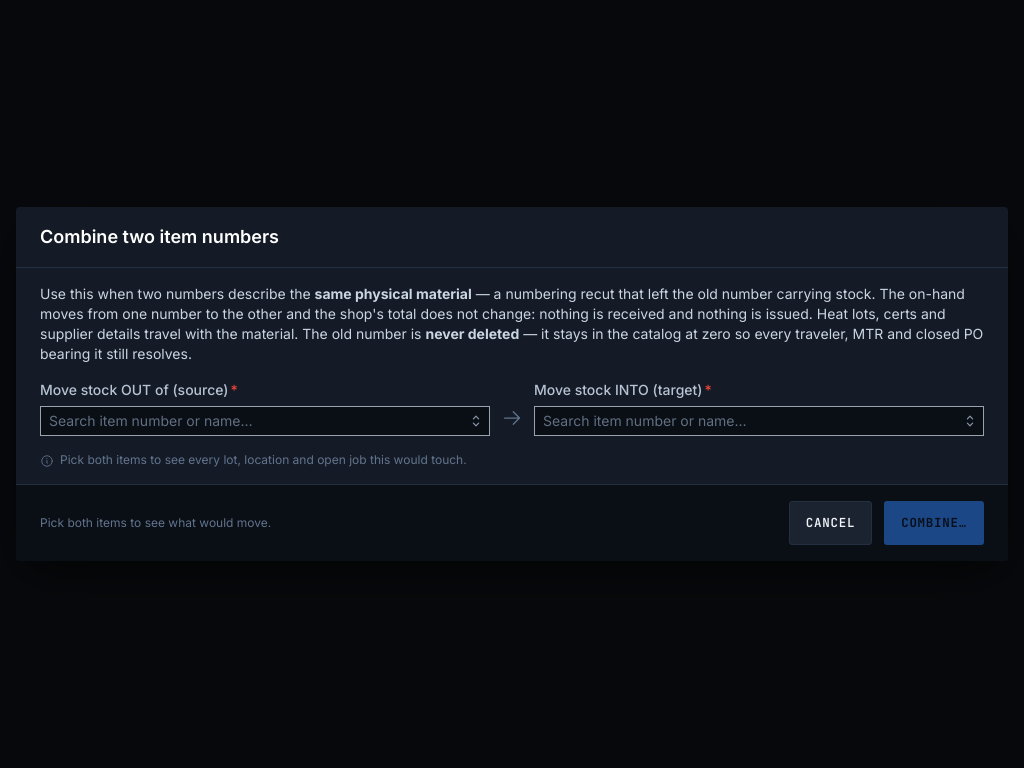
Test: CombineInventoryDialog — what the preview puts on screen › lists the open jobs still tied to the source, with what they still need
Click the dropdown labelled "Move stock OUT of (source)*": (265, 421) [40,406,490,436]
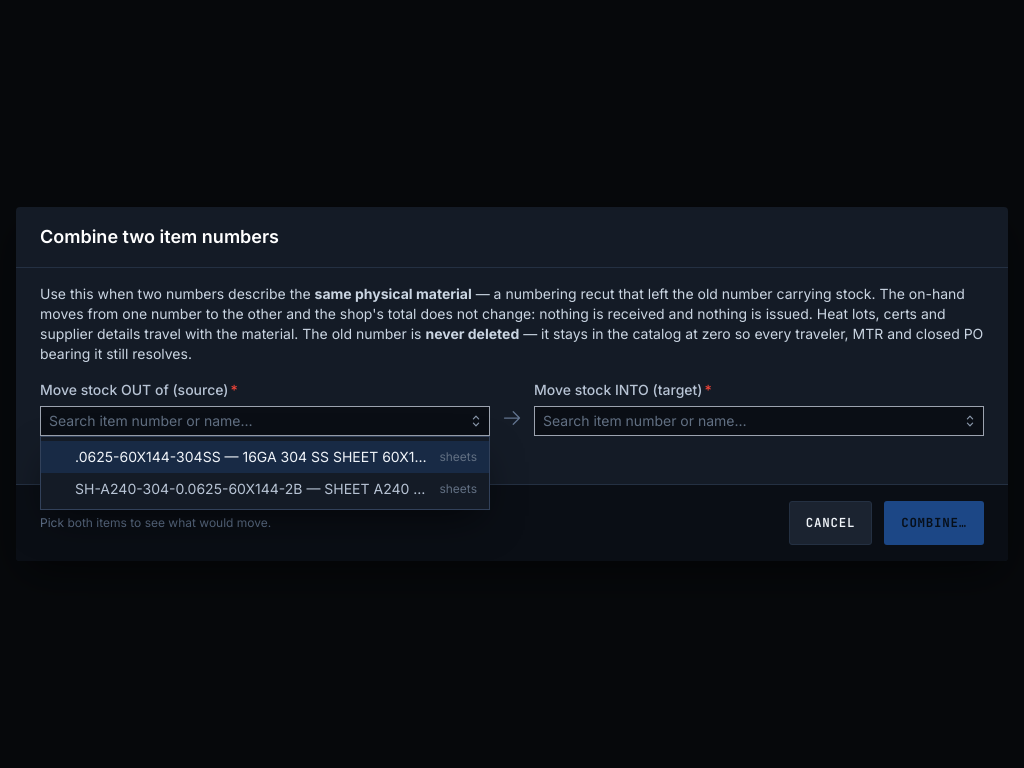
Click the option ".0625-60X144-304SS — 16GA 304 SS SHEET 60X144 sheets": (265, 457) [41,441,489,473]
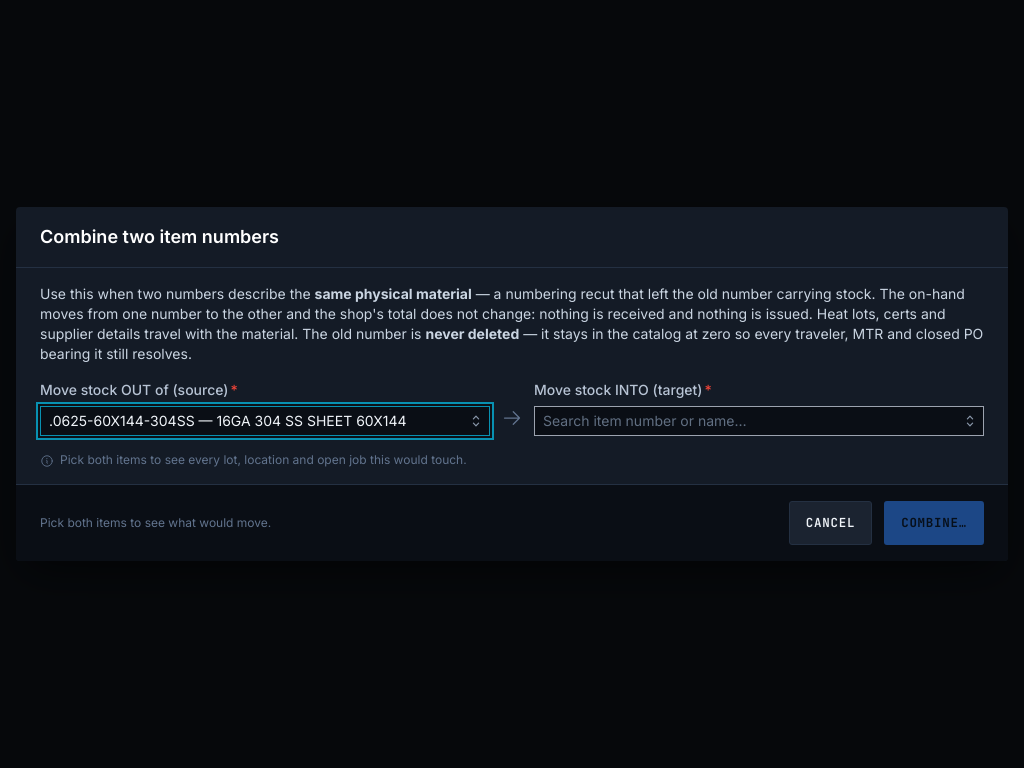
Click the dropdown labelled "Move stock INTO (target)*": (759, 421) [534,406,984,436]
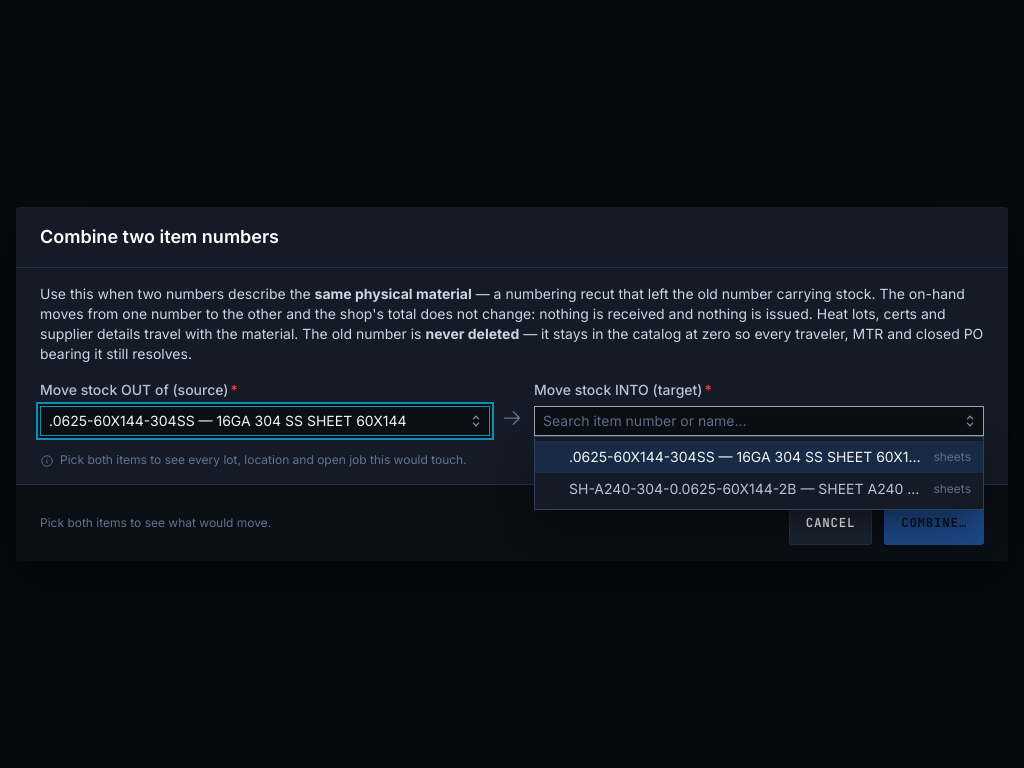
Click the option "SH-A240-304": (759, 489) [535,473,983,505]
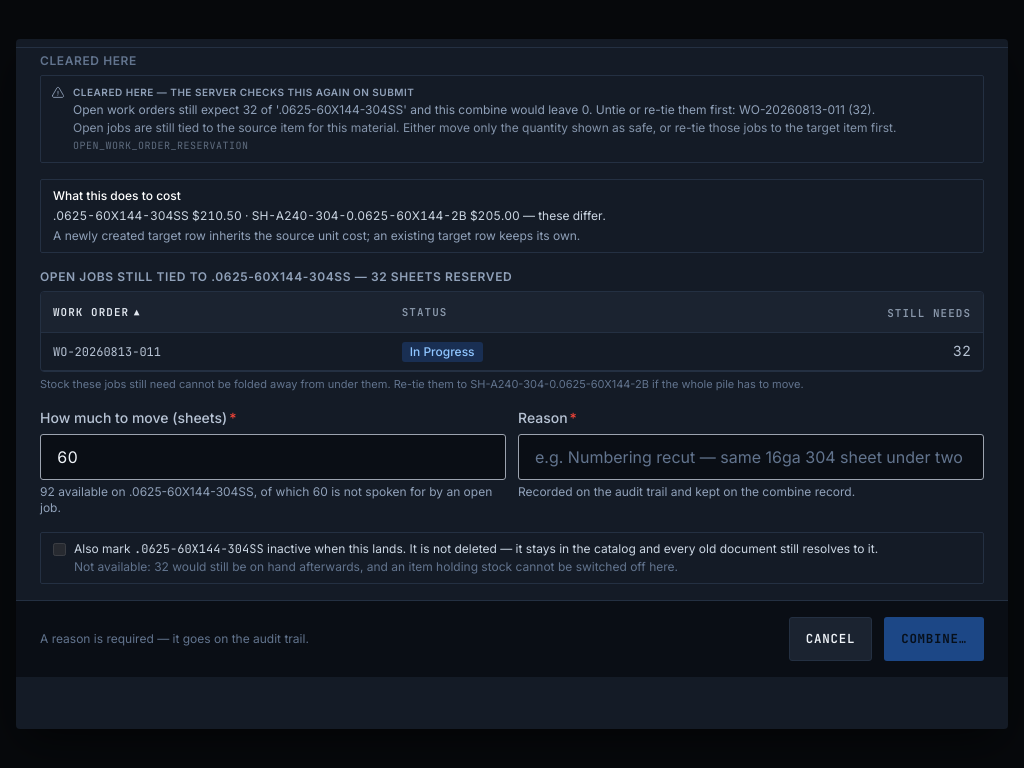
Expected: the text "32 sheets reserved" is shown, [40,269,512,284]
Expected: the text "WO-20260813-011" is shown, [53,344,161,360]
Expected: the text "32" is shown, [667,332,983,370]
